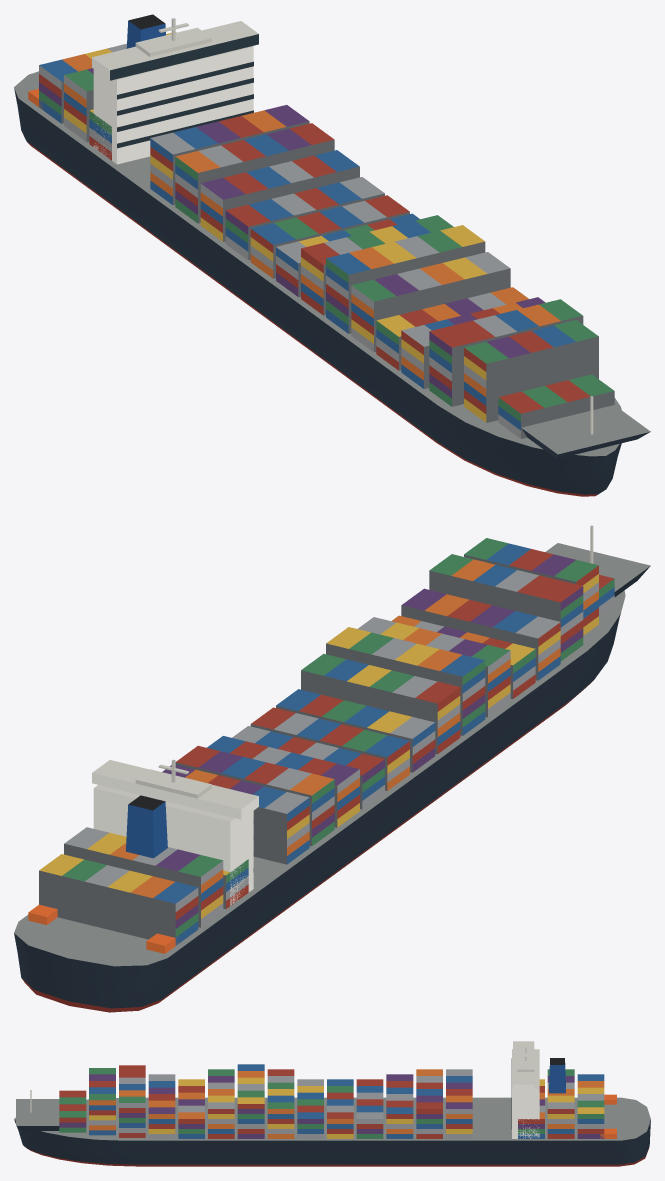
Rendered from sf_container_ship.glb.
3 renders of one model, top to bottom at view 1: azimuth 30°, elevation 25°; view 2: azimuth 150°, elevation 25°; view 3: azimuth 270°, elevation 25°, orthographic. The views are drawn at different scales.
Parts seen in each view (by area): view 1: sf_container_ship; view 2: sf_container_ship; view 3: sf_container_ship.
Boxes of the visible parts, bbox=[...] form: sf_container_ship: bbox=[14, 14, 650, 496]; sf_container_ship: bbox=[14, 525, 650, 1012]; sf_container_ship: bbox=[14, 1041, 650, 1166].
Bounding box in the file's own units: 48.01 × 52 × 300.
1 material, 1 textured.
